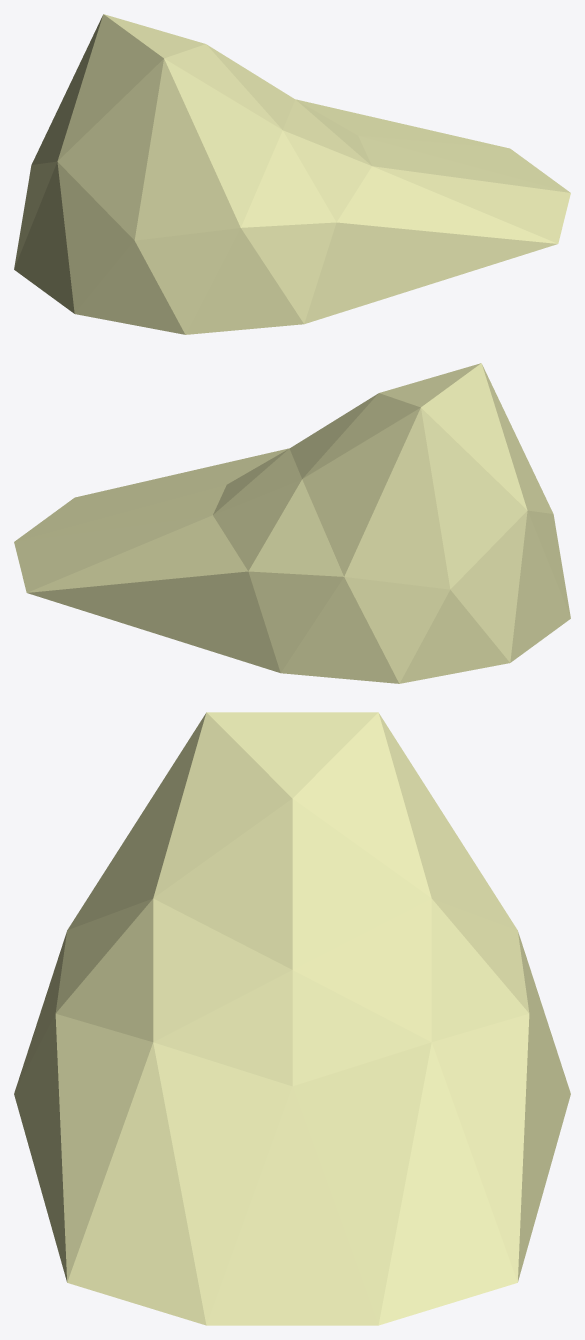
Rendered from stenen15.fbx.
The picture shows the model from 3 angles, top to bottom: view 1: azimuth 30°, elevation 25°; view 2: azimuth 150°, elevation 25°; view 3: azimuth 270°, elevation 25°; orthographic projection. The views are drawn at different scales.
Parts seen in each view (by area): view 1: Icosphere.005; view 2: Icosphere.005; view 3: Icosphere.005.
Boxes of the visible parts, x1,y1,x2,y2 form: Icosphere.005: (14, 14, 570, 334); Icosphere.005: (14, 363, 570, 683); Icosphere.005: (14, 712, 570, 1325).
Bounding box in the file's own units: 292 × 131 × 200.
